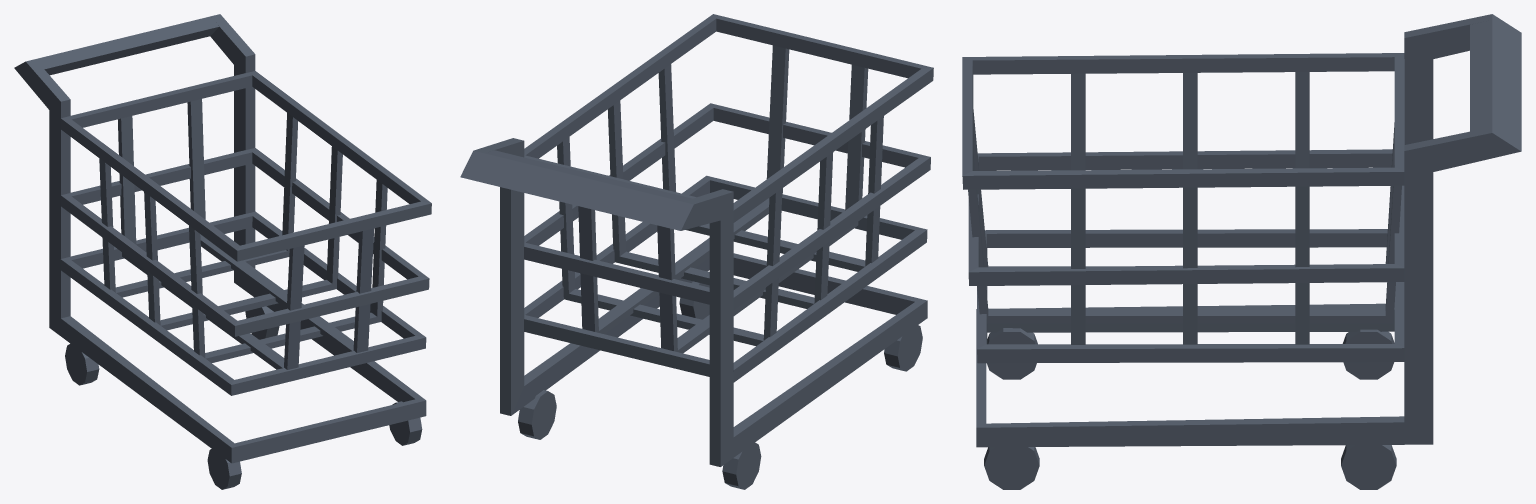
File: SPcart_low.fbx
3 views of the same model, side by side, from view 1: azimuth 30°, elevation 25°; view 2: azimuth 150°, elevation 25°; view 3: azimuth 270°, elevation 25° (orthographic). The views are drawn at different scales.
Visible parts, largest first — view 1: cart_low; view 2: cart_low; view 3: cart_low.
Boxes of the visible parts, box(x1,y1,x2,y2) form: cart_low: box(14, 14, 431, 489); cart_low: box(460, 14, 933, 489); cart_low: box(962, 14, 1521, 489).
Bounding box in the file's own units: 200 × 281 × 397.
